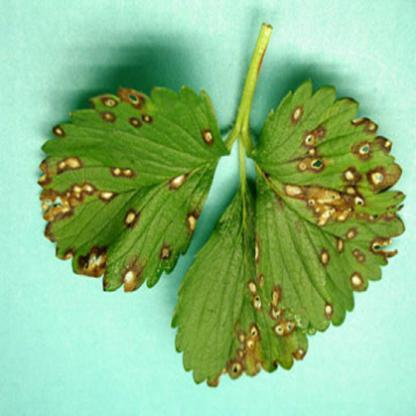Strawberry_Leaf_Spot: (37, 84, 231, 292), (248, 78, 406, 332), (168, 178, 308, 389)
